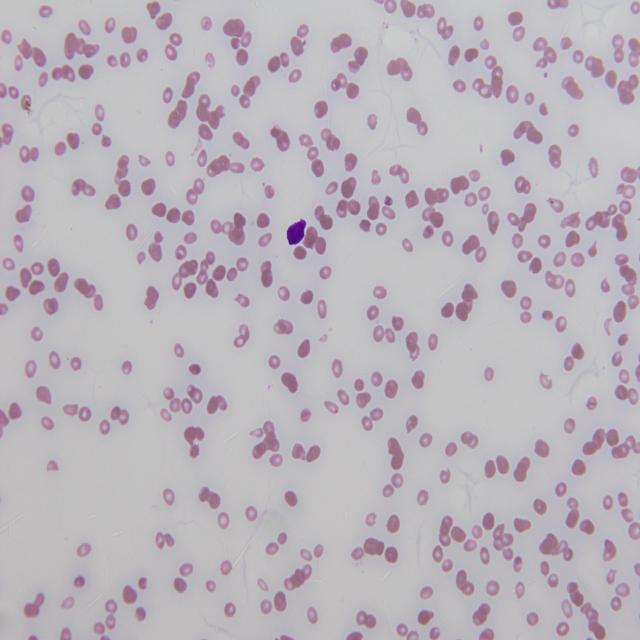cell: (286, 218, 306, 245)
